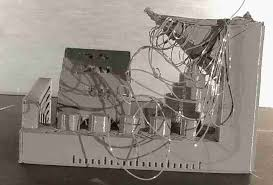fail: (74, 65, 186, 182), (143, 9, 236, 143)
